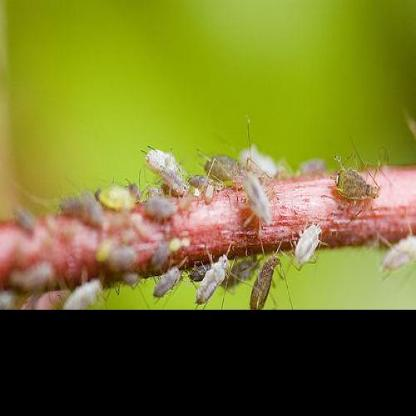aphid: (326, 159, 384, 218), (238, 167, 282, 234), (4, 249, 54, 304), (54, 261, 110, 308), (250, 243, 289, 310), (196, 244, 237, 306), (56, 188, 111, 230), (374, 225, 416, 280), (145, 146, 189, 196), (200, 140, 246, 180), (95, 178, 137, 221), (294, 211, 322, 274), (149, 258, 187, 303), (243, 133, 280, 179), (134, 190, 178, 228)
